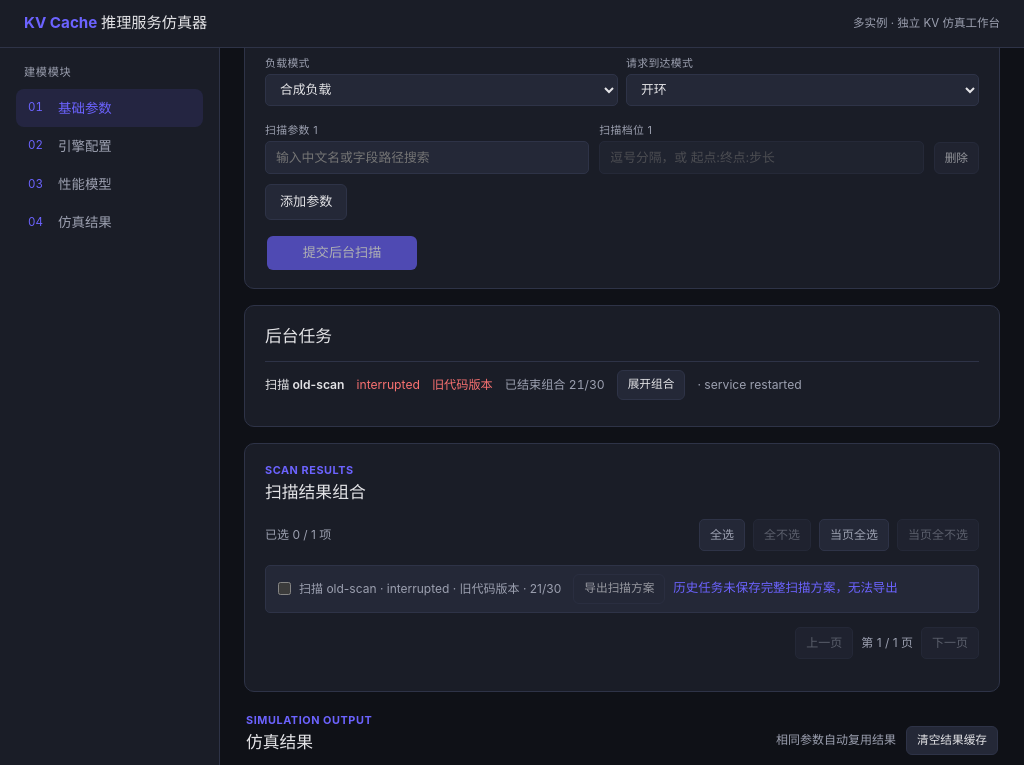
Test: App › paginates recorded scan points and does not offer a fabricated historical result
The width and height of the screenshot is (1024, 765).
(page scrolled)
Click the button "展开组合" at [651, 385], box [617,370,685,400]
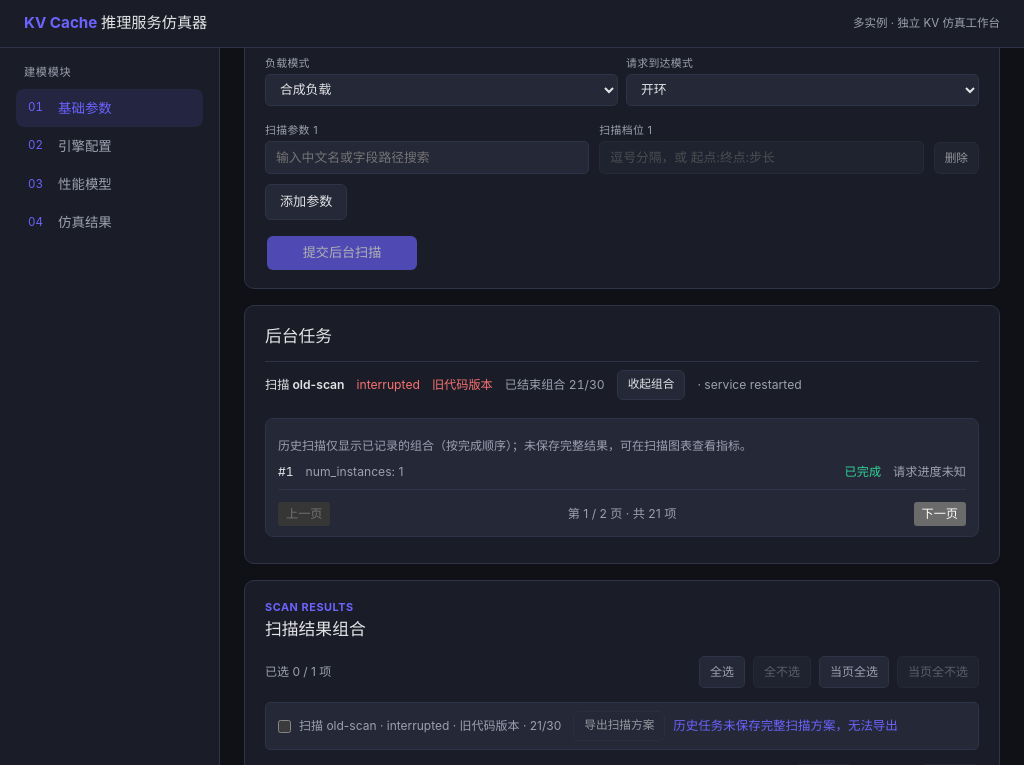
Now the text "num_instances: 1" is shown, box [306,464,404,478]
Now the text "历史扫描仅显示已记录的组合（按完成顺序）；未保存完整结果，可在扫描图表查看指标。" is shown, box [278,438,752,452]
Click the button "下一页" in the row of "页 · 共" at [940, 514], box [914,502,966,526]
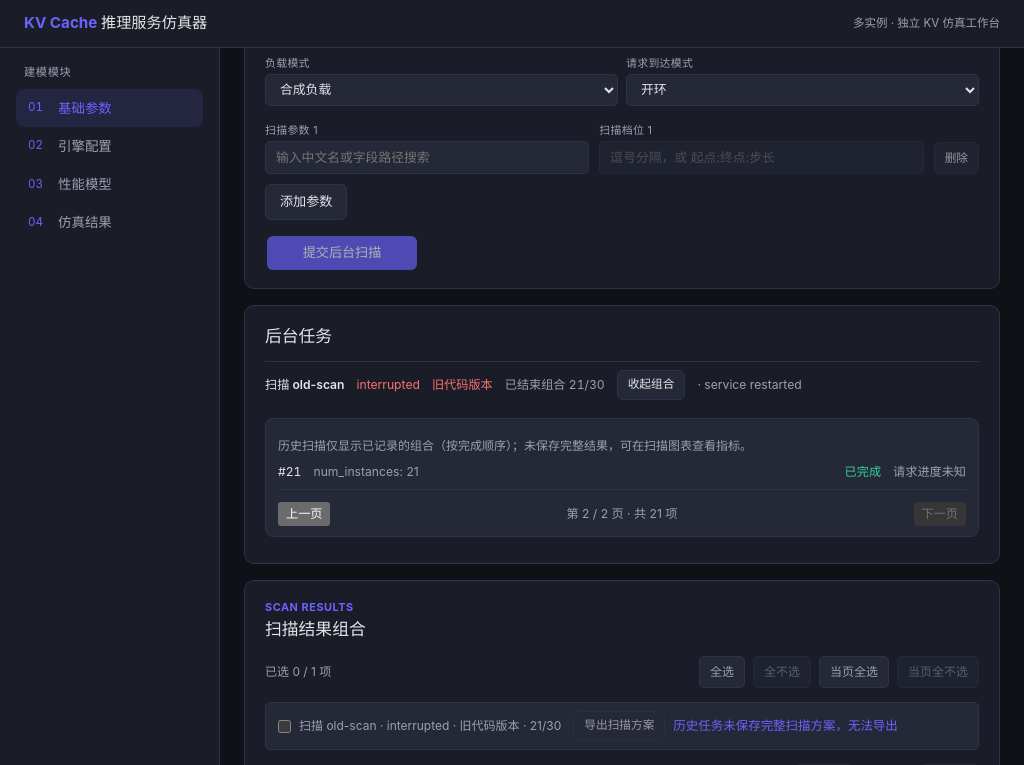
Now the text "num_instances: 21" is shown, box [314,464,419,478]
